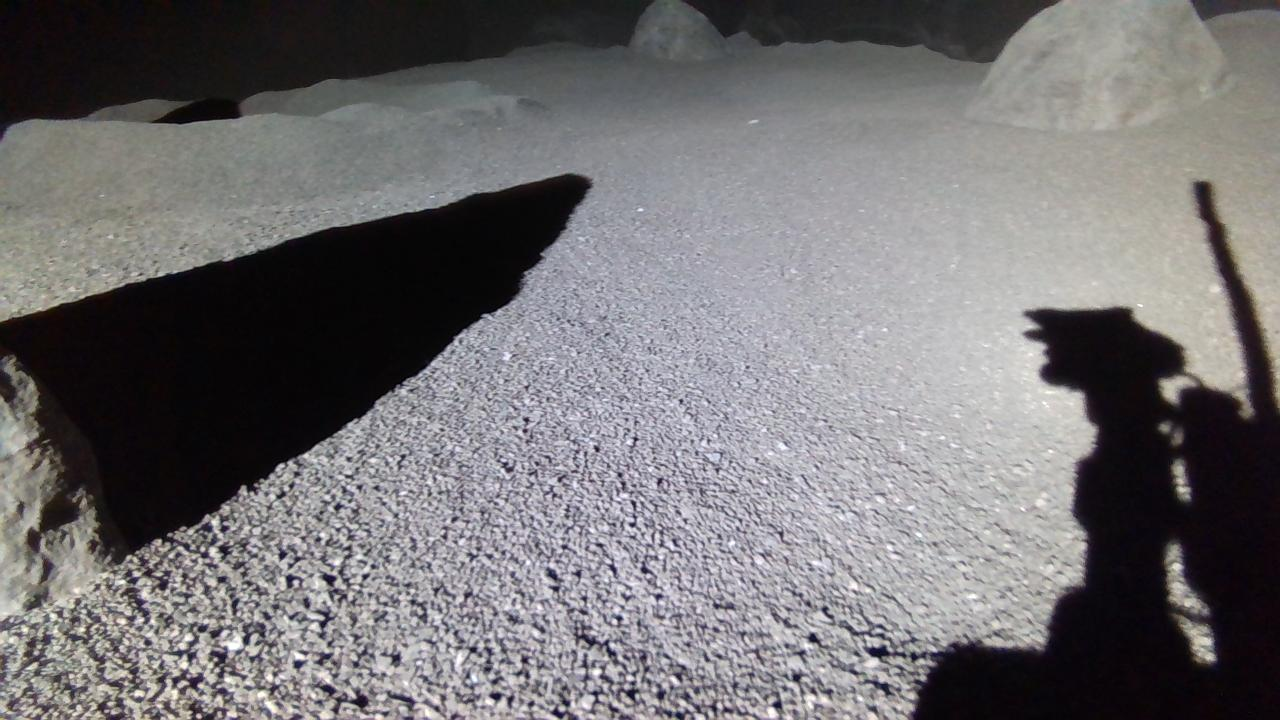rock: (967, 0, 1234, 130), (0, 347, 126, 618), (629, 0, 728, 58)
